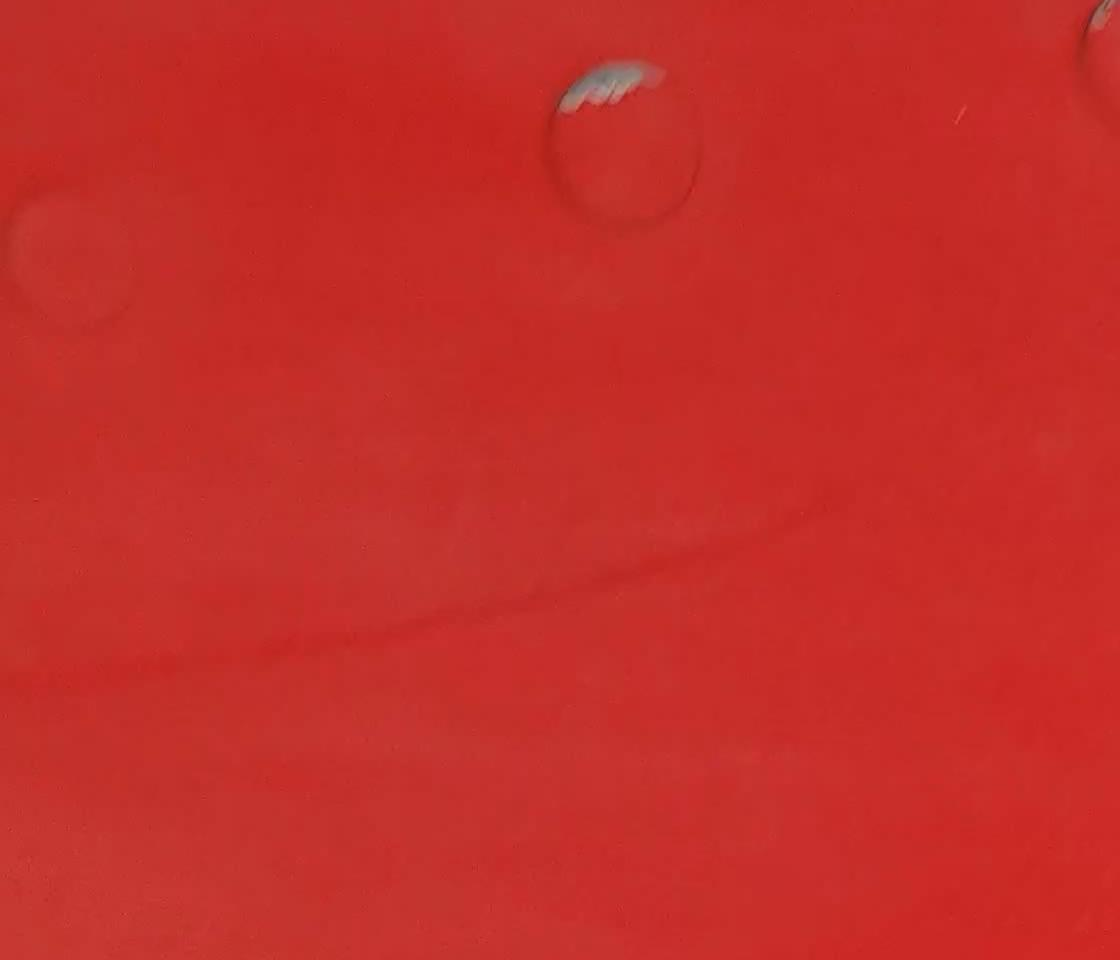paint_peel: (552, 60, 663, 118)
